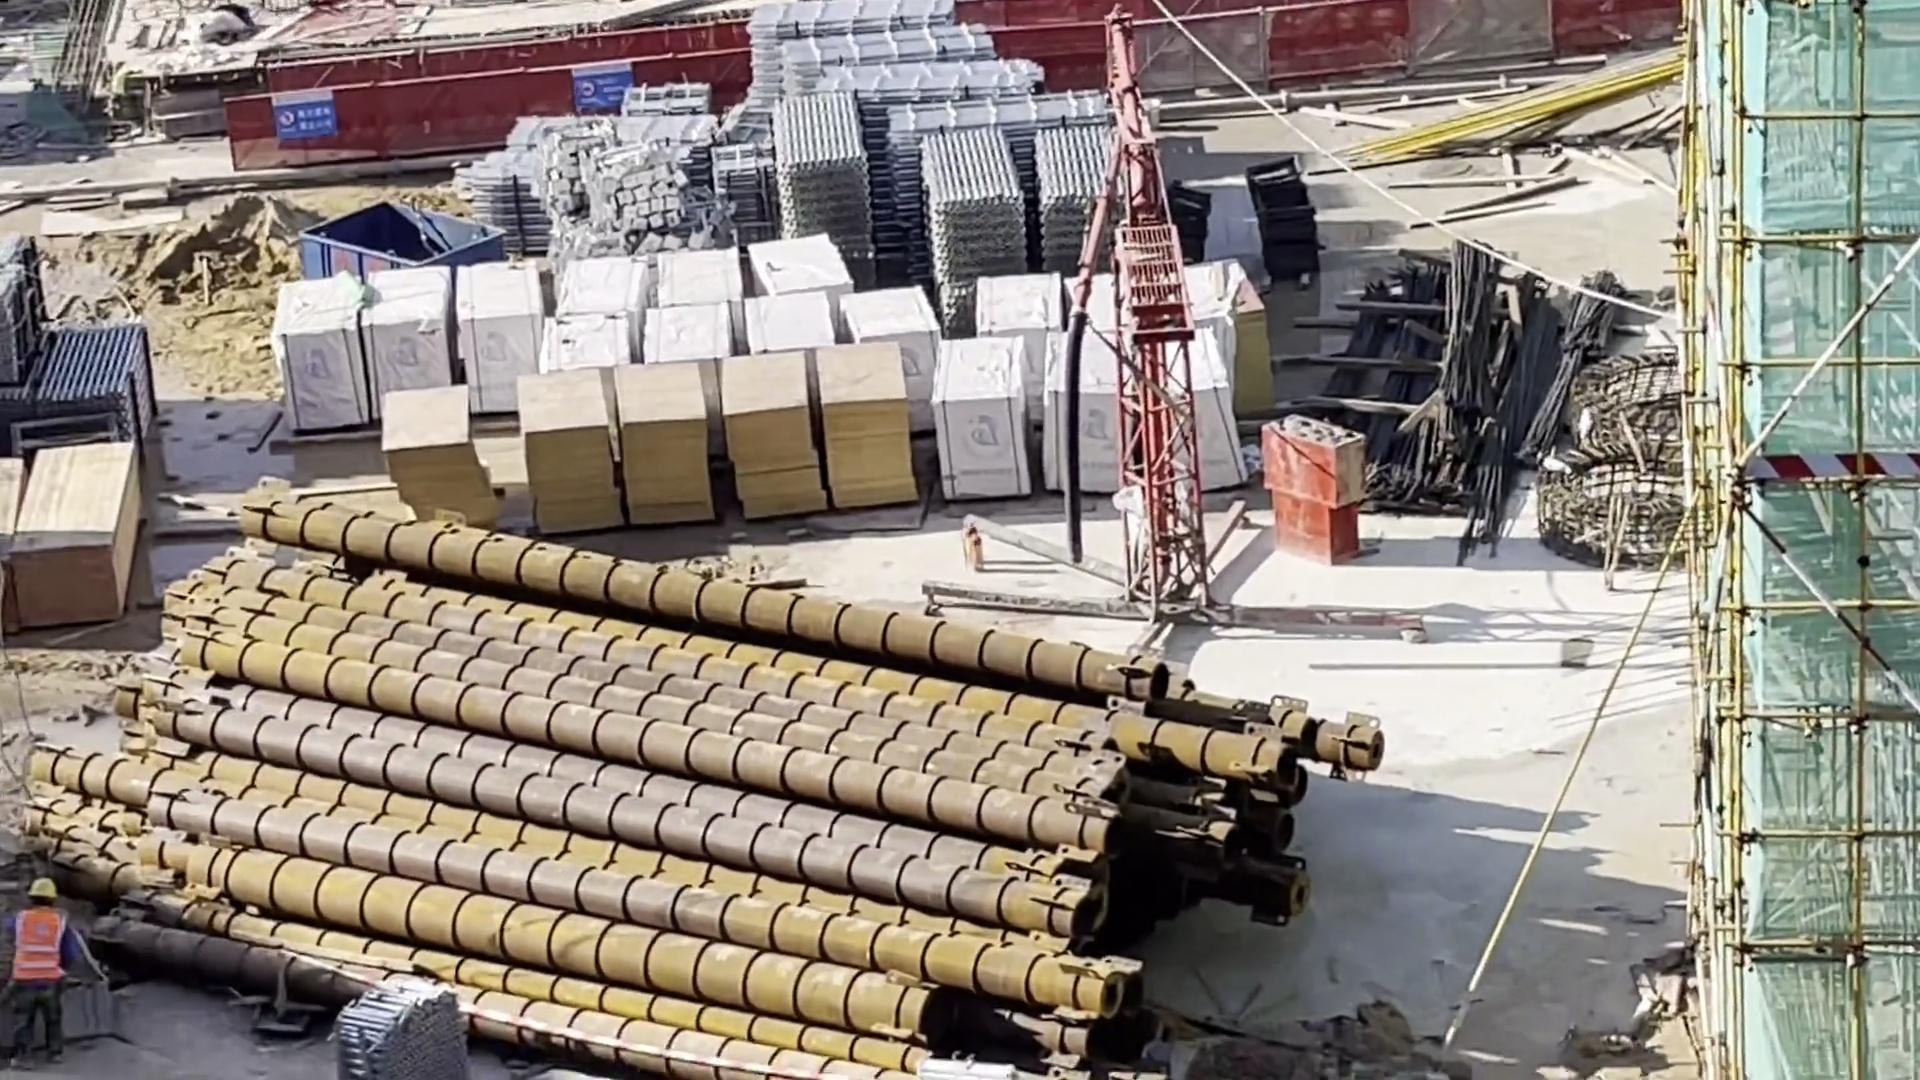board: (815, 332, 933, 515), (714, 348, 829, 527), (511, 364, 628, 539), (611, 349, 719, 537), (366, 380, 500, 532)
helmet: (23, 865, 63, 905)
hopper: (283, 191, 518, 295)
person: (10, 876, 89, 1075)
scaffold: (769, 83, 873, 279), (917, 121, 1031, 299), (1028, 110, 1129, 269), (758, 27, 1010, 70), (813, 56, 1051, 102), (741, 3, 969, 38)
slogan: (261, 73, 344, 149), (559, 56, 650, 124)
vest: (8, 893, 75, 987)
